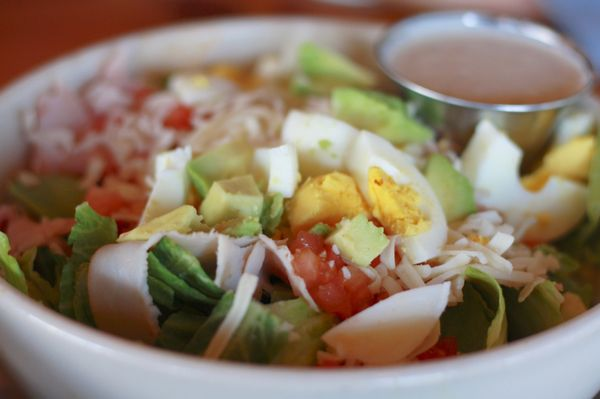sushi: (3, 21, 599, 377), (375, 9, 598, 113)
